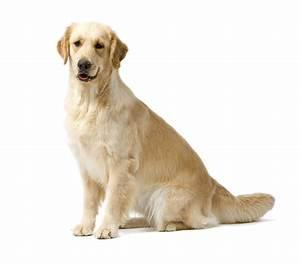dog: (56, 19, 275, 239)
